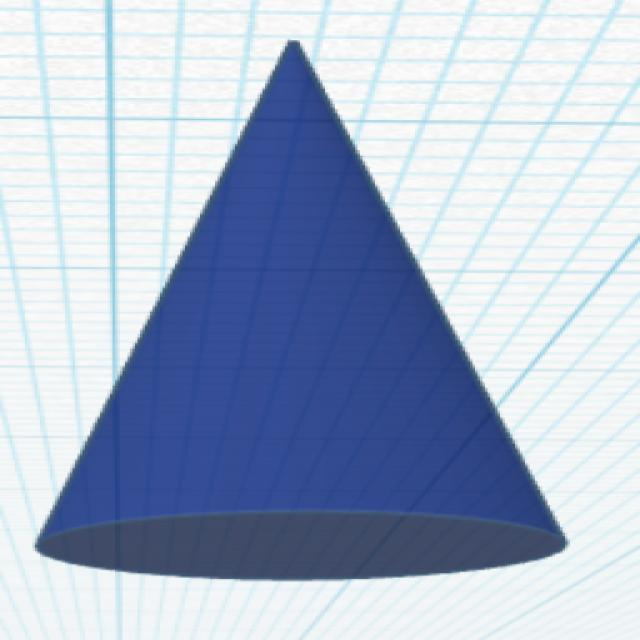cone: (29, 34, 578, 584)
